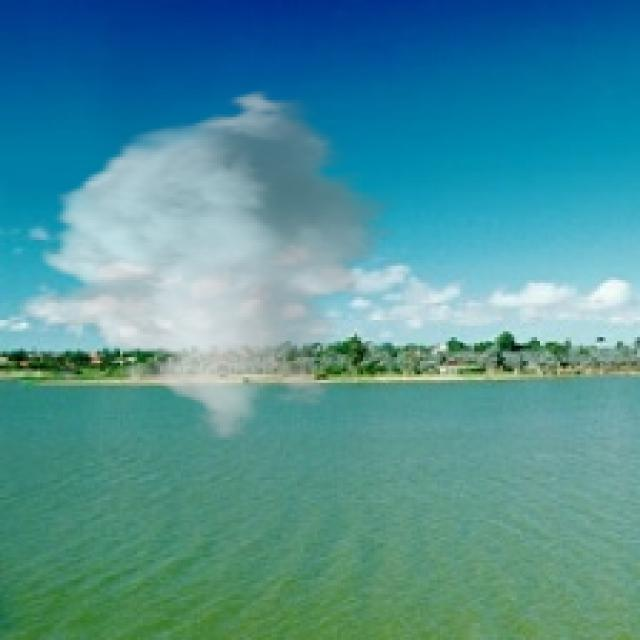smoke: (11, 88, 400, 443)
